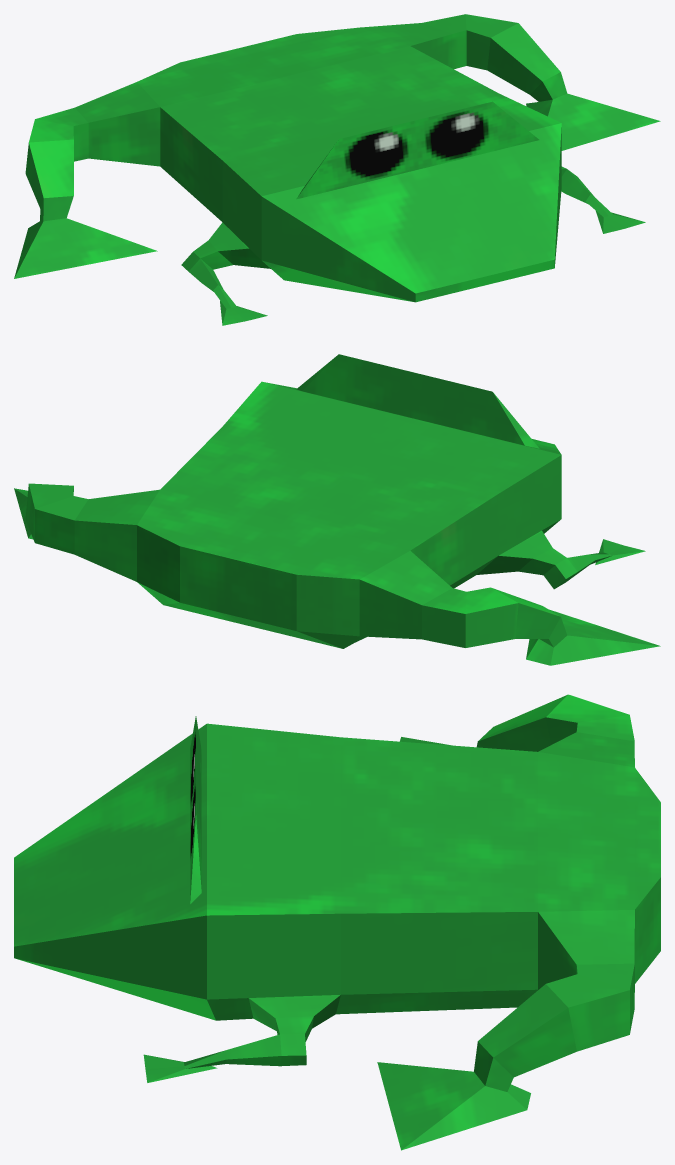
The model's file is Frog_That_Once_Sat_Upon_A_Shroom.glb.
3 views of the same model, one above another, from view 1: azimuth 30°, elevation 25°; view 2: azimuth 150°, elevation 25°; view 3: azimuth 270°, elevation 25° (orthographic). The views are drawn at different scales.
Parts seen in each view (by area): view 1: Frog; view 2: Frog; view 3: Frog.
Part boxes in pixels (bbox=[...]): Frog: bbox=[14, 14, 660, 325]; Frog: bbox=[14, 354, 660, 665]; Frog: bbox=[14, 694, 660, 1150].
Size of the model in its own units: 4.31 by 0.9019 by 2.85.
Materials: 1 (1 with a texture image).
